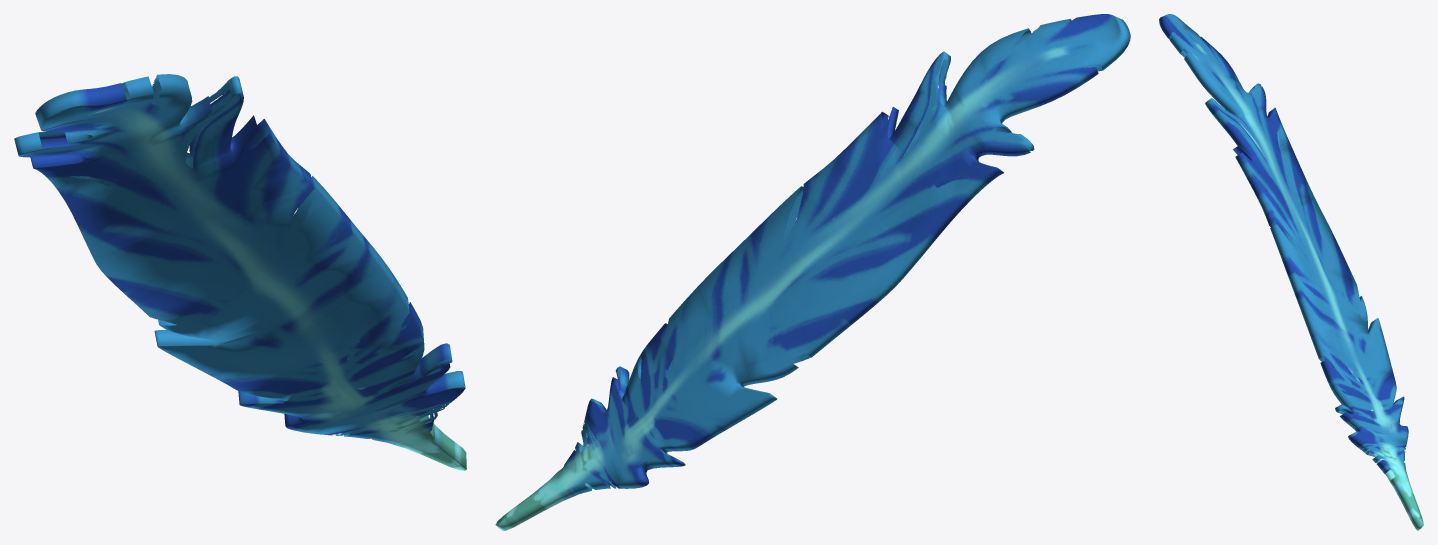
Rendered from Hopoo_Feather.fbx.
The picture shows the model from 3 angles, left to right: view 1: azimuth 30°, elevation 25°; view 2: azimuth 150°, elevation 25°; view 3: azimuth 270°, elevation 25°; orthographic projection. The views are drawn at different scales.
Parts seen in each view (by area): view 1: mdlFeatherPickup; view 2: mdlFeatherPickup; view 3: mdlFeatherPickup.
Boxes of the visible parts, box(x1,y1,x2,y2) form: mdlFeatherPickup: box(14, 74, 466, 470); mdlFeatherPickup: box(495, 14, 1130, 530); mdlFeatherPickup: box(1159, 14, 1423, 530).
Bounding box in the file's own units: 0.7712 × 0.792 × 0.5271.
1 material, 1 textured.
